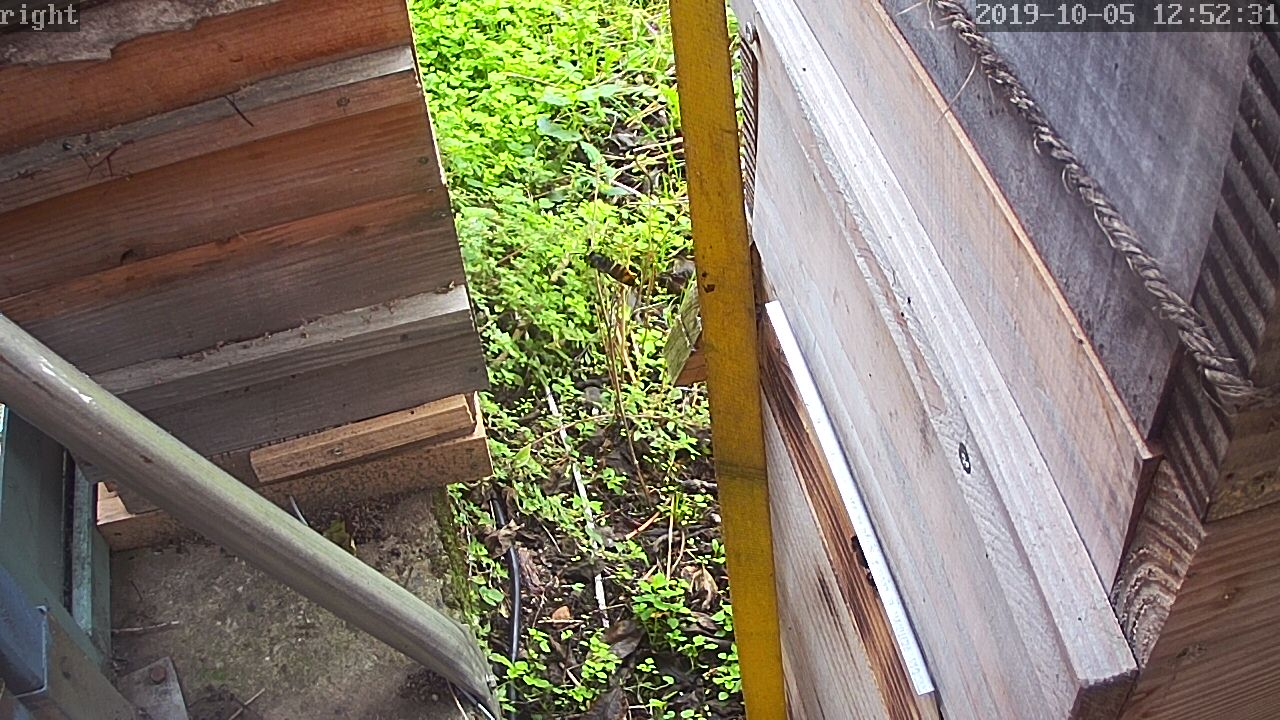bee: (842, 534, 873, 568), (859, 567, 888, 595)
hornet: (578, 247, 655, 288)
